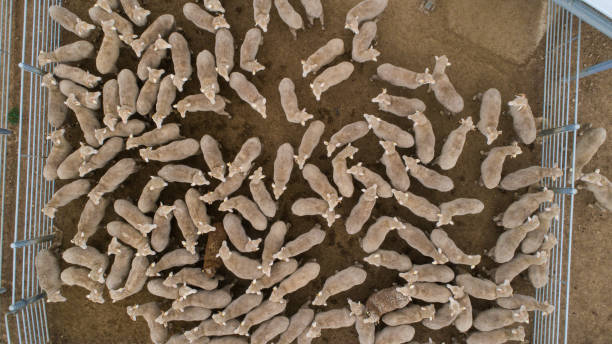sheep: (312, 257, 371, 309), (108, 252, 163, 304), (337, 187, 392, 237), (359, 109, 421, 152), (61, 242, 121, 286), (270, 256, 325, 303), (456, 269, 529, 304), (365, 136, 413, 189), (425, 52, 466, 114), (371, 57, 441, 93), (400, 107, 441, 167), (227, 73, 275, 124), (310, 59, 362, 106), (89, 156, 134, 210), (396, 221, 445, 270), (489, 187, 548, 227), (425, 228, 481, 270), (323, 113, 374, 159), (42, 176, 96, 219), (72, 193, 111, 251), (401, 153, 452, 197), (482, 141, 522, 196), (506, 93, 545, 149), (359, 286, 415, 325), (487, 285, 553, 318), (438, 115, 476, 172), (392, 187, 450, 224), (503, 162, 569, 194), (489, 215, 532, 264), (495, 249, 550, 287), (214, 242, 269, 279), (569, 125, 604, 183), (131, 13, 179, 55), (275, 223, 324, 264), (306, 304, 363, 339), (110, 192, 155, 236), (234, 25, 269, 81), (150, 71, 185, 127), (275, 74, 314, 124), (214, 293, 267, 329), (55, 266, 105, 304), (36, 37, 97, 68), (376, 300, 439, 330), (103, 220, 158, 254), (166, 31, 196, 92), (35, 248, 66, 307), (268, 143, 298, 203), (52, 76, 102, 112), (361, 216, 407, 255), (303, 36, 342, 82), (301, 163, 339, 210), (290, 195, 341, 230), (92, 5, 136, 45), (80, 135, 125, 174), (38, 130, 71, 183), (522, 204, 560, 250), (174, 94, 234, 123), (199, 136, 233, 187), (250, 257, 293, 297), (447, 286, 480, 338), (47, 4, 96, 39), (369, 89, 428, 118), (136, 68, 168, 121), (140, 133, 193, 165), (124, 303, 165, 344), (366, 250, 422, 280), (122, 119, 189, 144), (398, 262, 457, 290), (435, 191, 475, 232), (219, 195, 267, 229), (153, 247, 204, 279), (334, 143, 361, 203), (423, 295, 469, 330), (464, 306, 531, 330), (343, 1, 390, 35), (474, 86, 501, 145), (379, 144, 414, 189), (193, 48, 221, 104), (96, 22, 125, 76), (46, 59, 100, 88), (89, 112, 147, 139), (436, 195, 482, 229), (40, 75, 71, 125), (136, 36, 171, 80), (530, 234, 557, 291), (284, 300, 318, 344), (108, 239, 136, 292), (188, 186, 217, 237), (170, 293, 252, 311), (294, 119, 329, 161), (182, 2, 225, 36), (148, 276, 200, 304), (249, 167, 278, 217), (404, 279, 449, 311), (150, 201, 176, 256), (169, 267, 220, 295), (188, 318, 245, 343), (579, 168, 612, 211), (354, 165, 397, 198), (59, 142, 93, 183), (162, 162, 210, 191), (458, 325, 530, 344), (273, 2, 309, 39), (171, 201, 197, 252), (352, 18, 380, 65), (160, 303, 214, 327), (71, 98, 98, 145), (228, 139, 261, 177), (135, 175, 164, 218), (117, 68, 142, 117), (222, 218, 258, 252), (249, 298, 287, 329), (347, 301, 374, 344), (96, 78, 118, 130), (249, 1, 278, 38), (214, 28, 235, 79), (303, 1, 329, 36)
